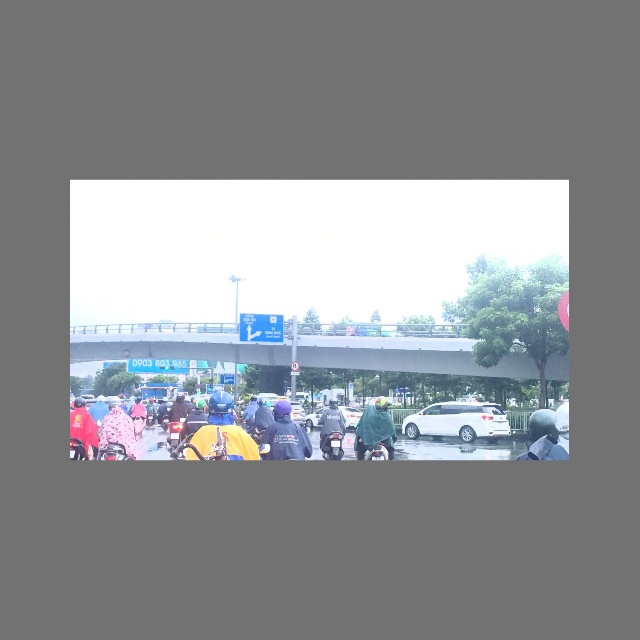P.124b1: (289, 360, 303, 374)
